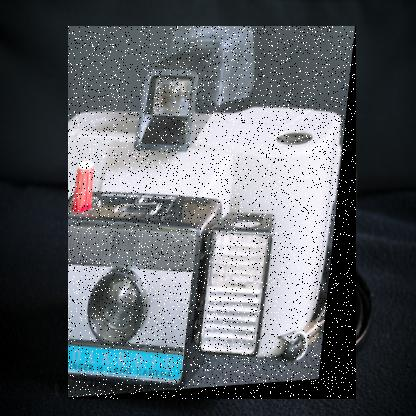Camera: (69, 28, 358, 402)
